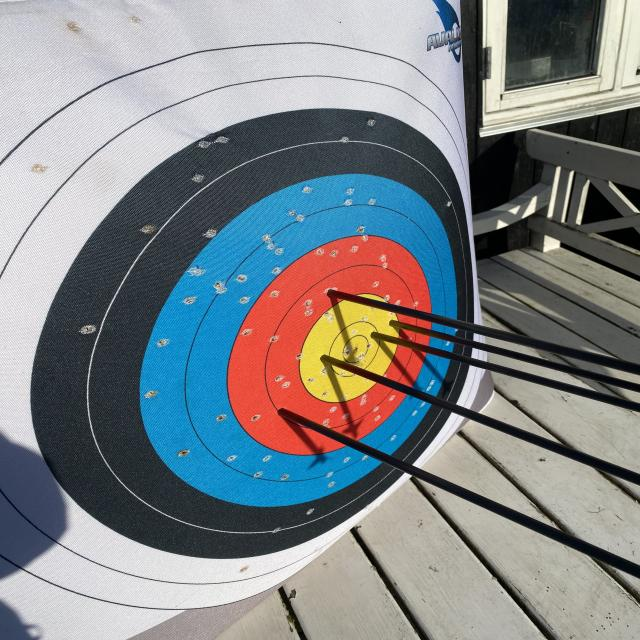Arrow_Red: (251, 390, 306, 427), (314, 274, 352, 310)
Arrow_Yellow: (314, 341, 354, 376), (381, 309, 418, 340), (357, 322, 388, 347)
